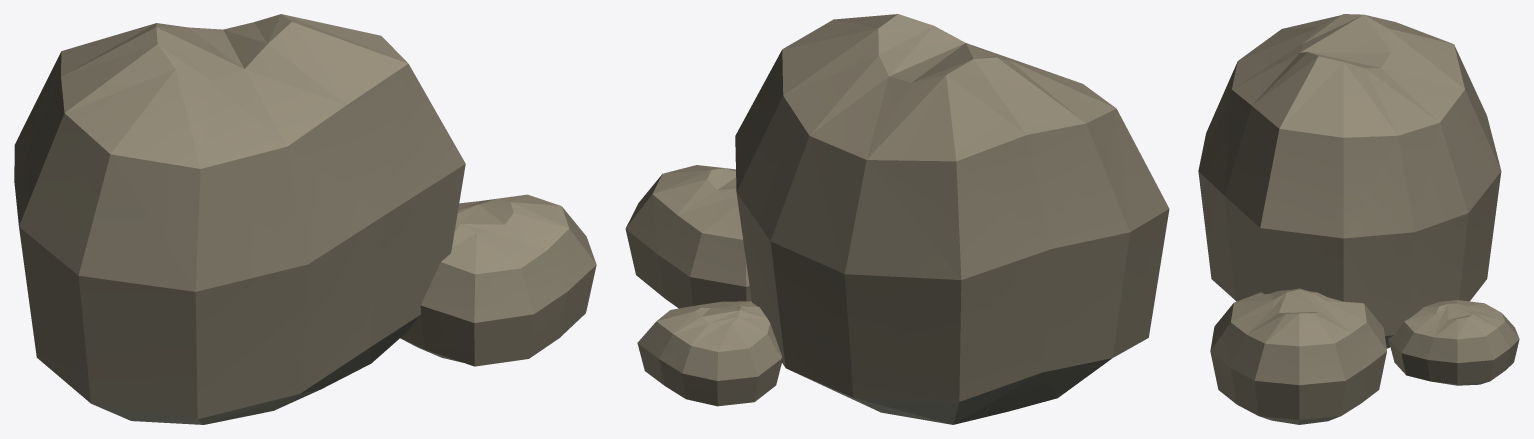
File: Prop_Hills_BoulderCluster_001.glb
The picture shows the model from 3 angles, left to right: view 1: azimuth 30°, elevation 25°; view 2: azimuth 150°, elevation 25°; view 3: azimuth 270°, elevation 25°; orthographic projection. The views are drawn at different scales.
Visible parts, largest first — view 1: HL_BoulderCluster_Body; view 2: HL_BoulderCluster_Body; view 3: HL_BoulderCluster_Body.
Boxes of the visible parts, x1,y1,x2,y2 form: HL_BoulderCluster_Body: [14, 14, 596, 424]; HL_BoulderCluster_Body: [625, 14, 1169, 424]; HL_BoulderCluster_Body: [1198, 14, 1519, 424].
Size of the model in its own units: 3.94 by 2.4 by 2.54.
